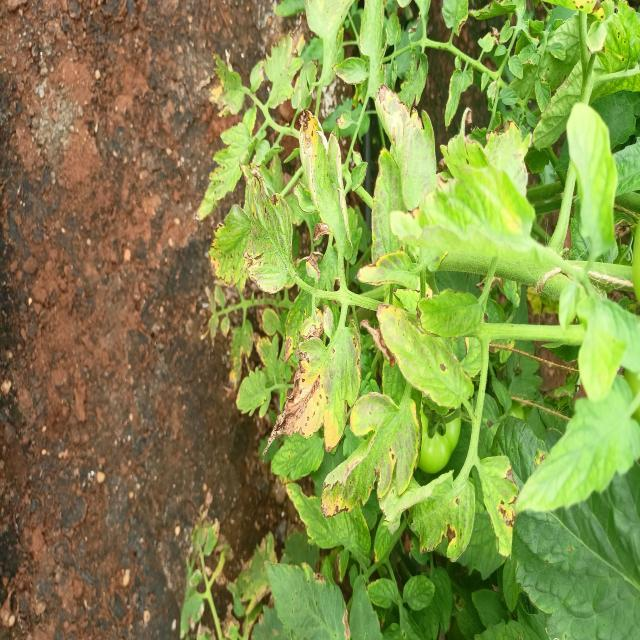Tomato mosaic virus leaf: (260, 322, 366, 468), (295, 104, 357, 244), (398, 468, 477, 565), (242, 171, 296, 295), (320, 437, 398, 522), (482, 454, 522, 562), (303, 249, 325, 283)
